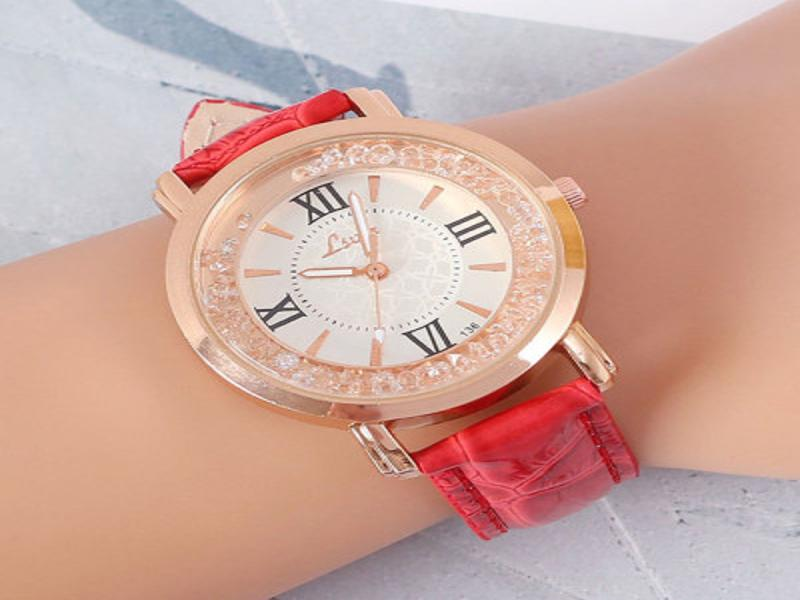watch: (153, 82, 642, 539)
